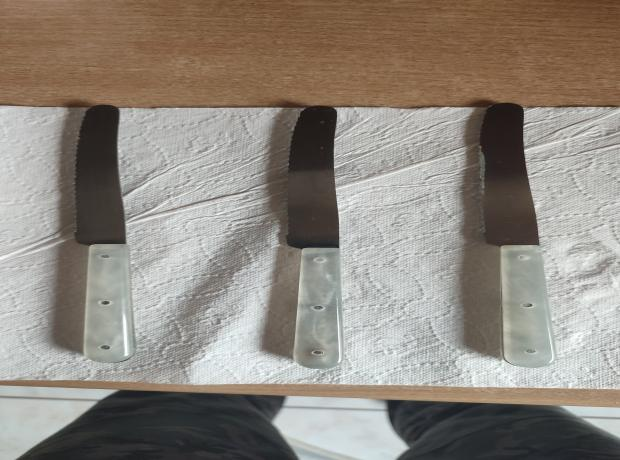metal: (480, 104, 555, 368), (282, 106, 344, 369), (72, 106, 134, 363)
